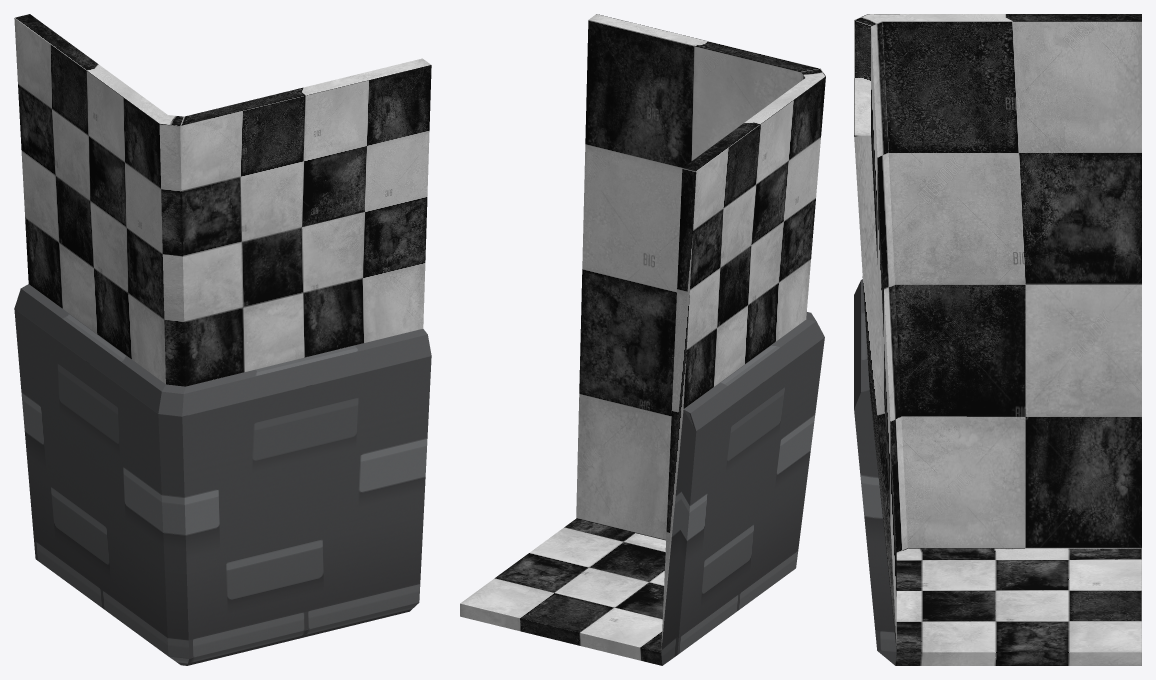
The model's file is building_01_corner_tile.obj.
3 renders of one model, left to right at view 1: azimuth 30°, elevation 25°; view 2: azimuth 150°, elevation 25°; view 3: azimuth 270°, elevation 25°, orthographic. The views are drawn at different scales.
Visible parts, largest first — view 1: corner_Cube.005; view 2: corner_Cube.005; view 3: corner_Cube.005.
Part boxes in pixels (x1,y1,x2,y2): corner_Cube.005: (14,14,431,665); corner_Cube.005: (460,14,825,665); corner_Cube.005: (854,14,1141,665).
Size of the model in its own units: 1.97 by 4 by 1.97.
